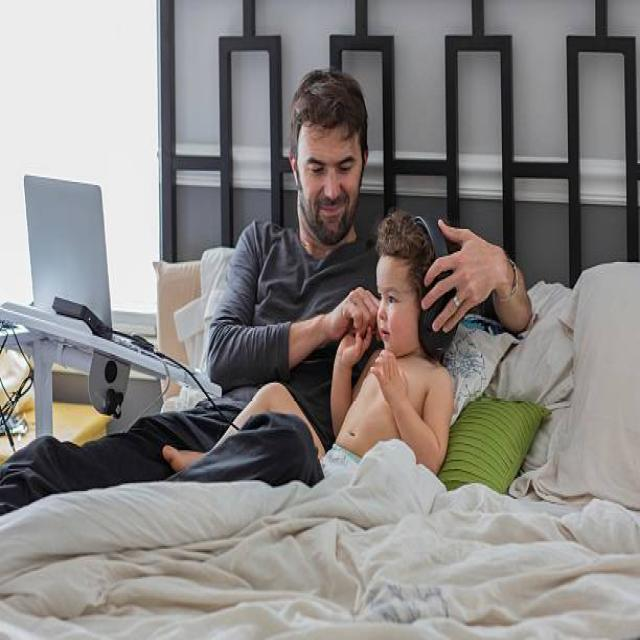Headphone: (409, 212, 458, 361)
